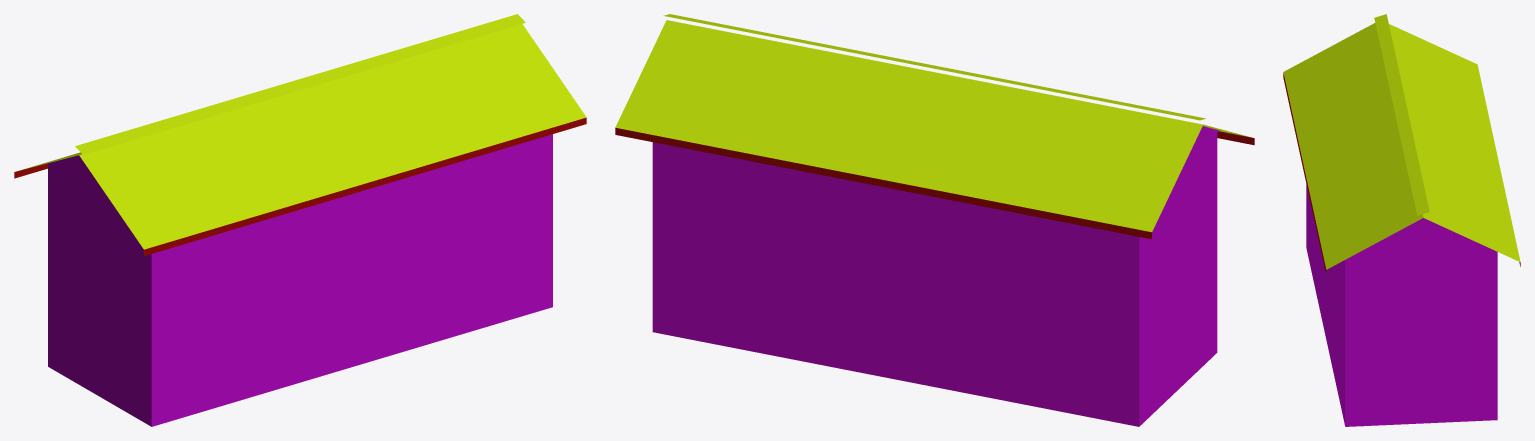
File: scl_59.glb
3 views of the same model, side by side, from view 1: azimuth 30°, elevation 25°; view 2: azimuth 150°, elevation 25°; view 3: azimuth 270°, elevation 25° (orthographic). The views are drawn at different scales.
Parts seen in each view (by area): view 1: scl_59; view 2: scl_59; view 3: scl_59.
Boxes of the visible parts, bbox=[...] form: scl_59: bbox=[14, 14, 586, 426]; scl_59: bbox=[615, 14, 1254, 426]; scl_59: bbox=[1283, 14, 1520, 426].
Bounding box in the file's own units: 9.3 × 4.65 × 4.54.
